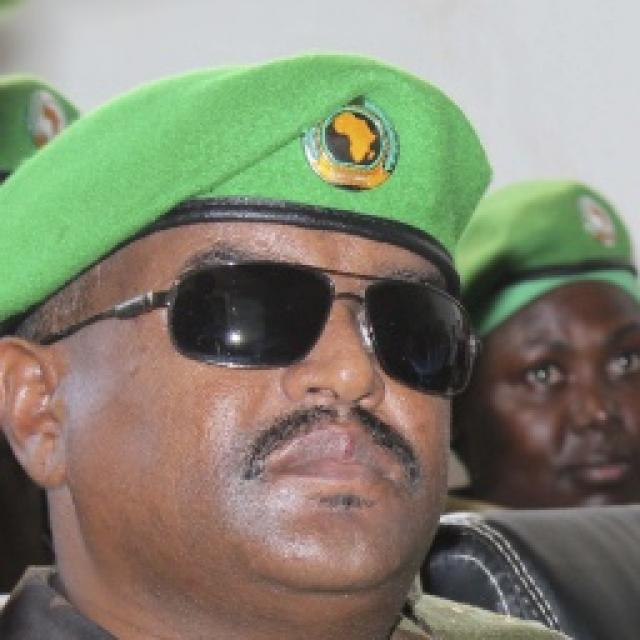glasses: (152, 248, 494, 396)
no-glasses: (523, 330, 640, 397)
